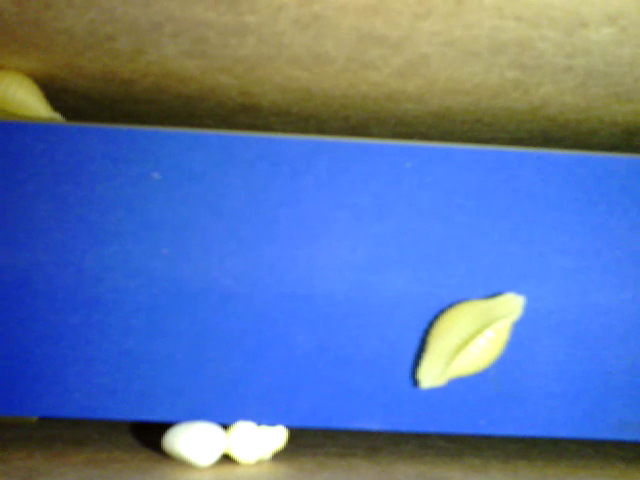shell: (415, 290, 527, 396), (1, 61, 69, 126)
